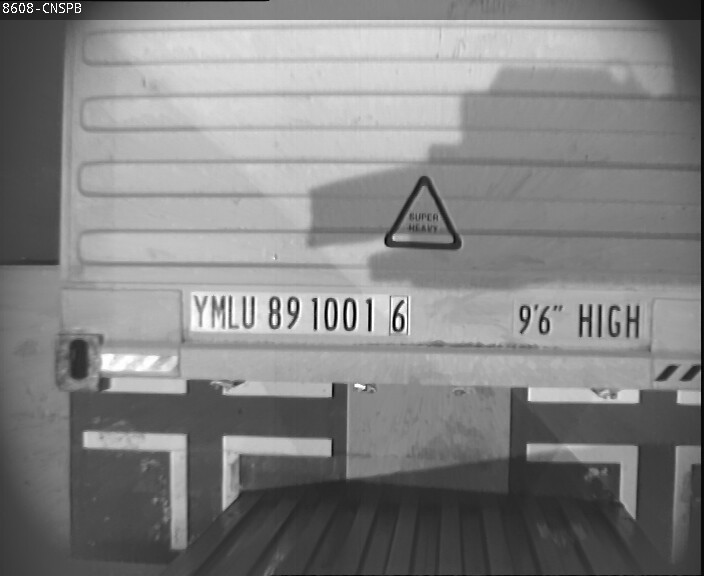groundmarker_1: (83, 428, 331, 549), (522, 443, 703, 564)
